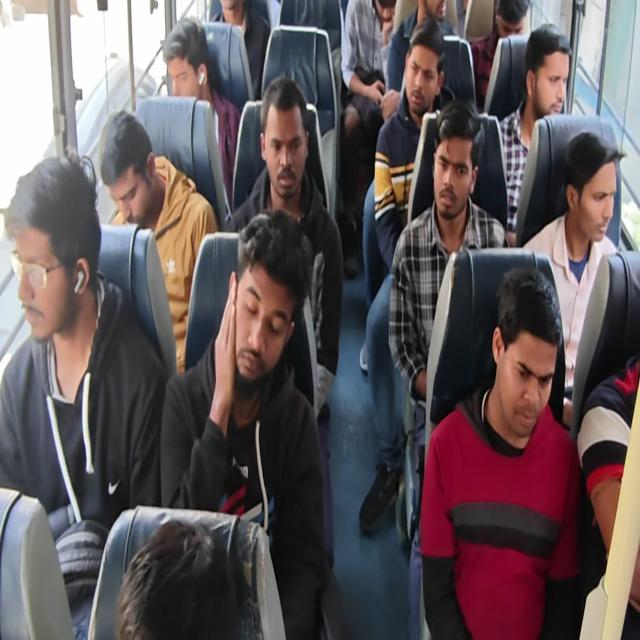person: (122, 519, 270, 640), (4, 181, 100, 351), (486, 270, 568, 432), (228, 197, 296, 377), (256, 84, 308, 193), (160, 28, 222, 108), (108, 119, 154, 223), (576, 152, 626, 247), (526, 42, 568, 132), (433, 136, 475, 219), (399, 62, 439, 120), (490, 0, 535, 49), (365, 0, 399, 35), (214, 0, 248, 29), (423, 0, 451, 30)
